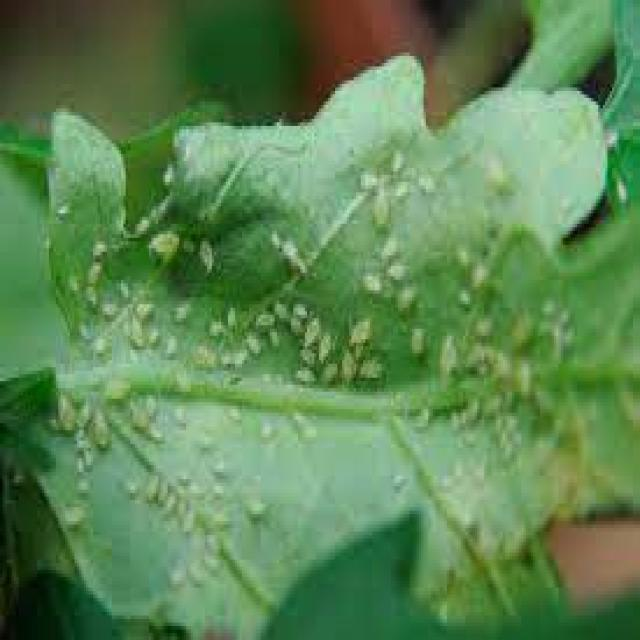aphid: (142, 220, 184, 270), (56, 489, 93, 538), (342, 304, 372, 356), (349, 350, 389, 388), (482, 140, 509, 196), (433, 328, 461, 378), (188, 230, 218, 276), (461, 248, 491, 294), (51, 388, 79, 437), (88, 402, 114, 454), (286, 356, 318, 392), (240, 486, 270, 524), (180, 553, 210, 591), (372, 224, 402, 262), (298, 307, 322, 353), (368, 182, 392, 228), (512, 353, 536, 399), (168, 392, 194, 434), (240, 322, 266, 364), (402, 318, 428, 360), (294, 412, 324, 448), (508, 308, 536, 346), (124, 398, 152, 434), (358, 262, 384, 300), (249, 301, 277, 336), (312, 353, 340, 388), (391, 280, 419, 315), (335, 342, 356, 388), (81, 252, 105, 290), (140, 466, 164, 504), (253, 412, 280, 444), (168, 294, 195, 326), (470, 308, 496, 340), (125, 308, 146, 346), (158, 326, 179, 364), (293, 339, 321, 367), (260, 318, 284, 350), (218, 298, 240, 332), (202, 311, 228, 339), (382, 256, 408, 284), (452, 238, 472, 273), (86, 230, 107, 262), (79, 280, 100, 312), (132, 294, 156, 322), (263, 220, 284, 252), (154, 472, 172, 507), (63, 266, 81, 298), (270, 290, 288, 322), (226, 398, 244, 426), (187, 472, 204, 500), (70, 448, 86, 476)
